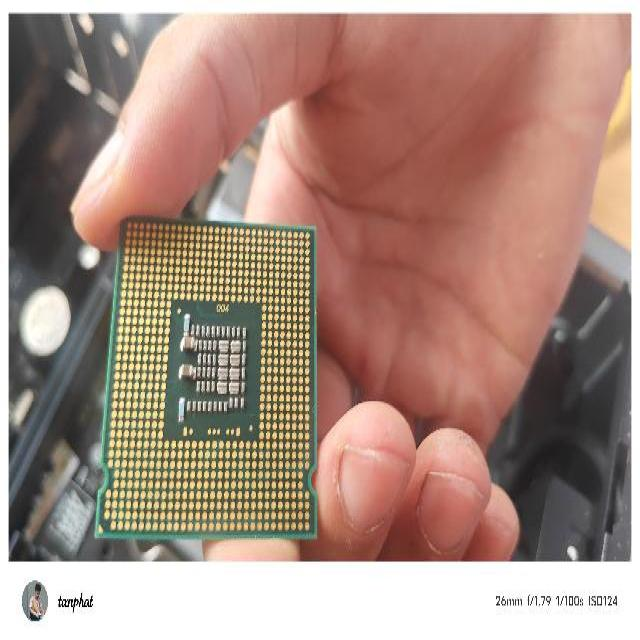CPU: (92, 210, 323, 541)
